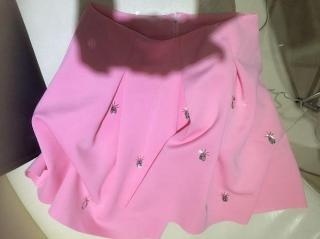skirt: (24, 2, 307, 239)
